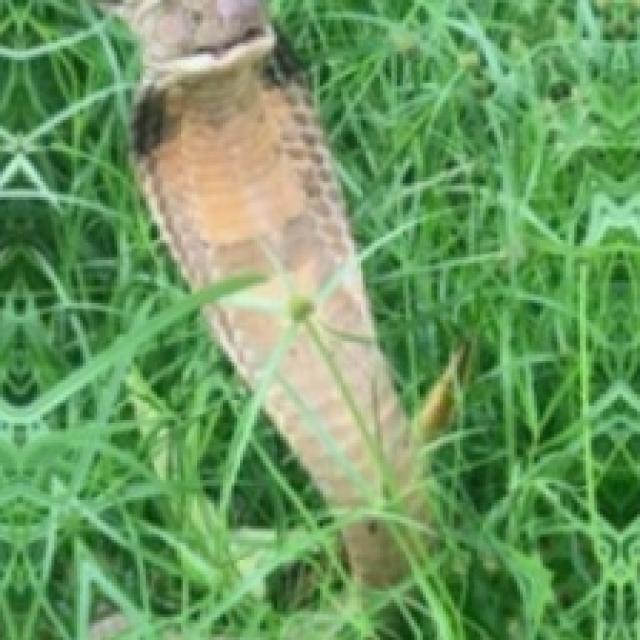king cobra: (103, 0, 420, 583)
